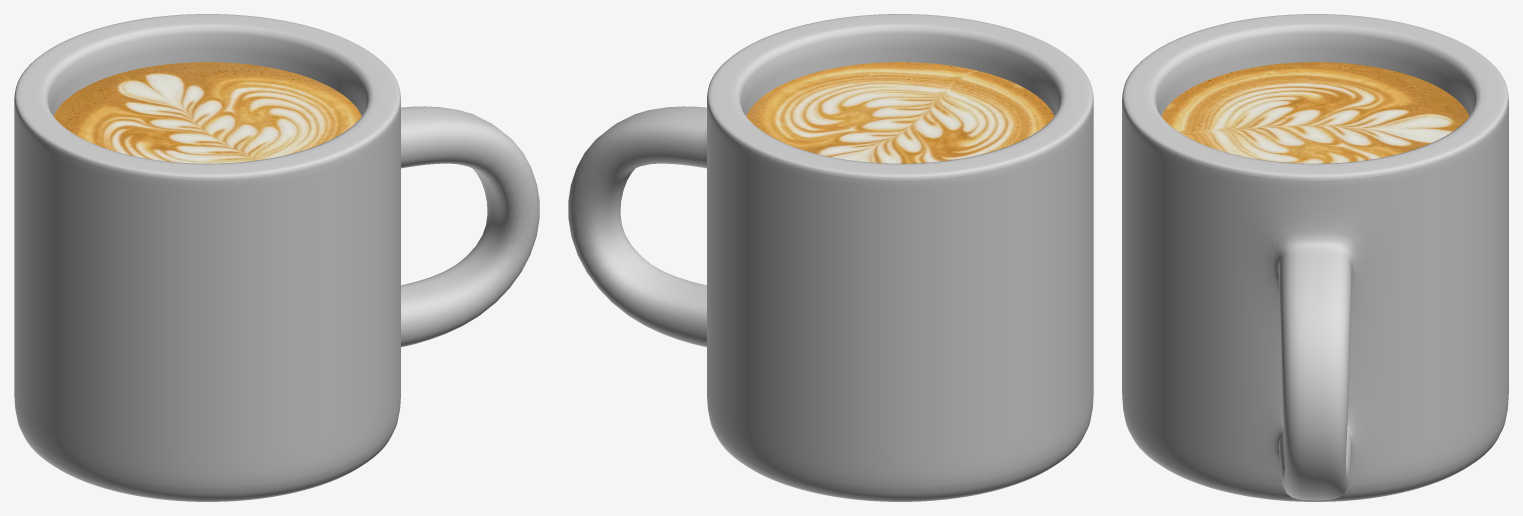
The model's file is Tea_Cup.gltf.
The picture shows the model from 3 angles, left to right: view 1: azimuth 30°, elevation 25°; view 2: azimuth 150°, elevation 25°; view 3: azimuth 270°, elevation 25°; orthographic projection.
Parts seen in each view (by area): view 1: Cylinder, Circle; view 2: Cylinder, Circle; view 3: Cylinder, Circle.
Boxes of the visible parts, bbox=[...] form: Cylinder: bbox=[14, 14, 539, 501]; Circle: bbox=[53, 62, 361, 163]; Cylinder: bbox=[568, 14, 1093, 501]; Circle: bbox=[746, 62, 1054, 163]; Cylinder: bbox=[1122, 14, 1508, 501]; Circle: bbox=[1161, 62, 1469, 163].
Size of the model in its own units: 5.58 by 3.62 by 3.81.
2 materials, 1 textured.
